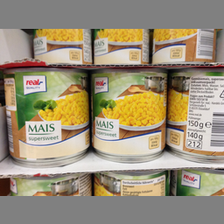corn: (2, 68, 91, 166), (91, 68, 168, 162), (167, 67, 224, 160), (151, 29, 216, 62), (33, 29, 90, 66), (93, 29, 151, 65)
